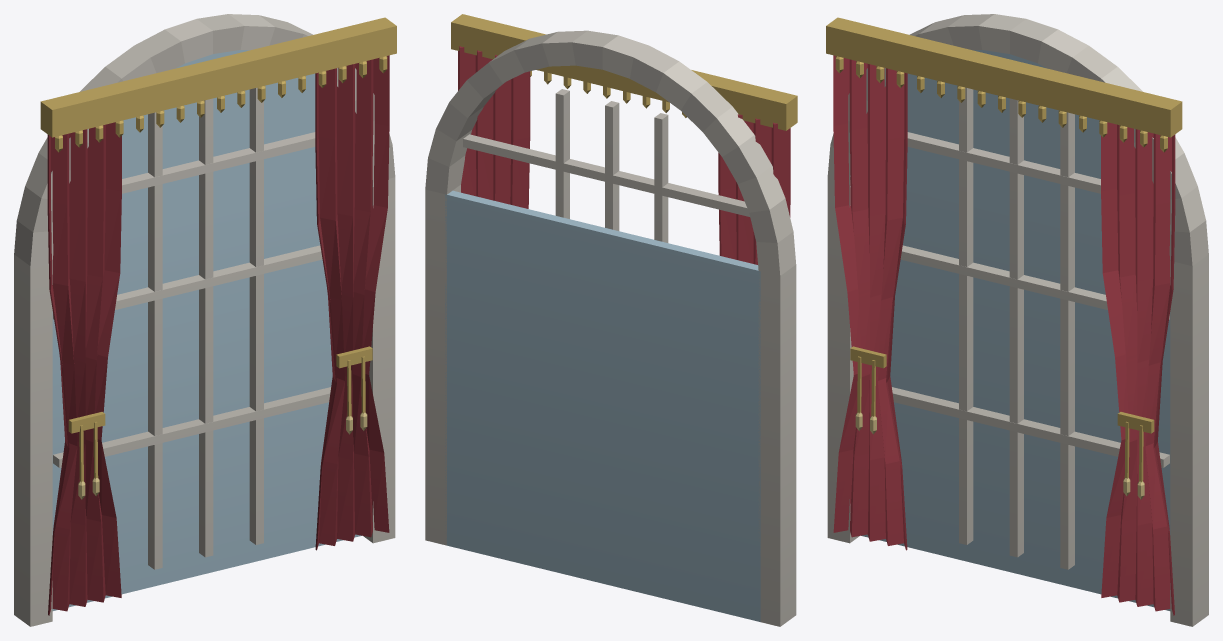
The model's file is palace_window_drapes.glb.
3 views of the same model, side by side, from view 1: azimuth 30°, elevation 25°; view 2: azimuth 150°, elevation 25°; view 3: azimuth 330°, elevation 25° (orthographic). The views are drawn at different scales.
Visible parts, largest first — view 1: palace_window_drapes; view 2: palace_window_drapes; view 3: palace_window_drapes.
Boxes of the visible parts, x1,y1,x2,y2 form: palace_window_drapes: [14, 14, 396, 626]; palace_window_drapes: [425, 14, 797, 626]; palace_window_drapes: [826, 14, 1208, 626].
Bounding box in the file's own units: 1.8 × 2.6 × 0.24.
